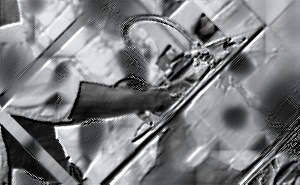washing hand: (52, 0, 225, 153)
